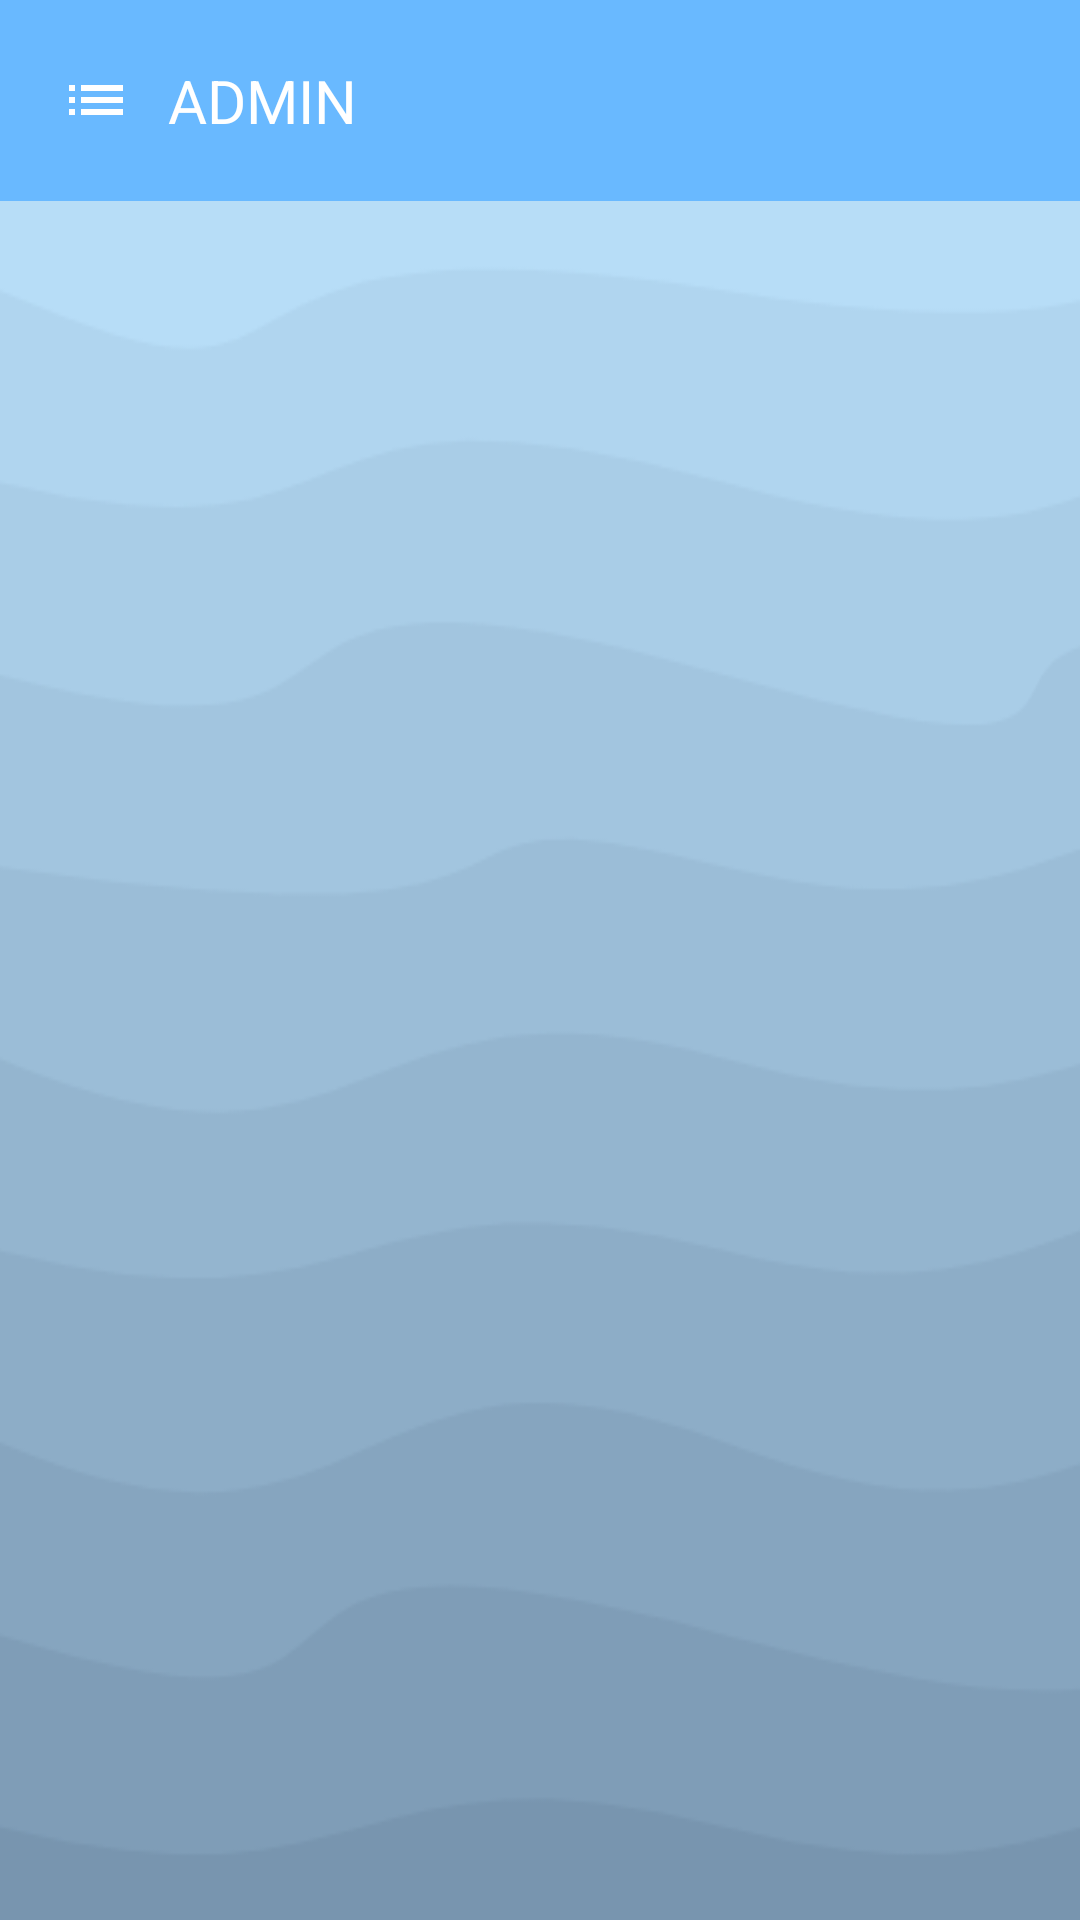

Point at icon controls on the screen. Image size 1080w x 1920h, points as (x,y).
list: (96,100)
